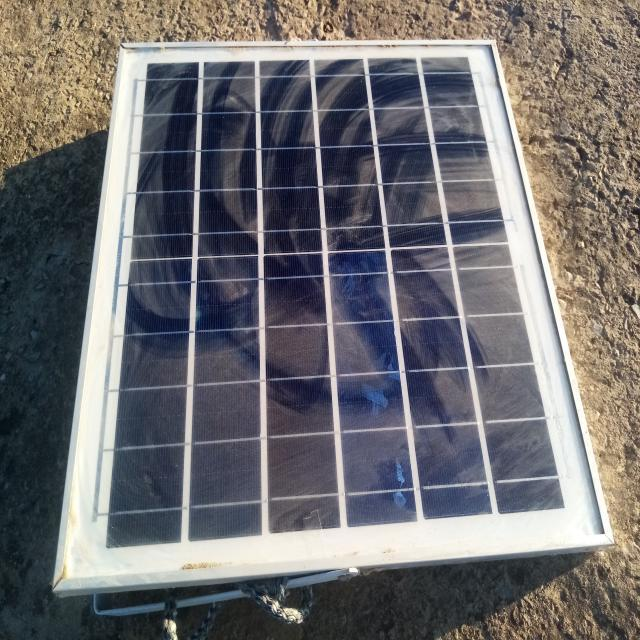faulty: (58, 43, 608, 581)
